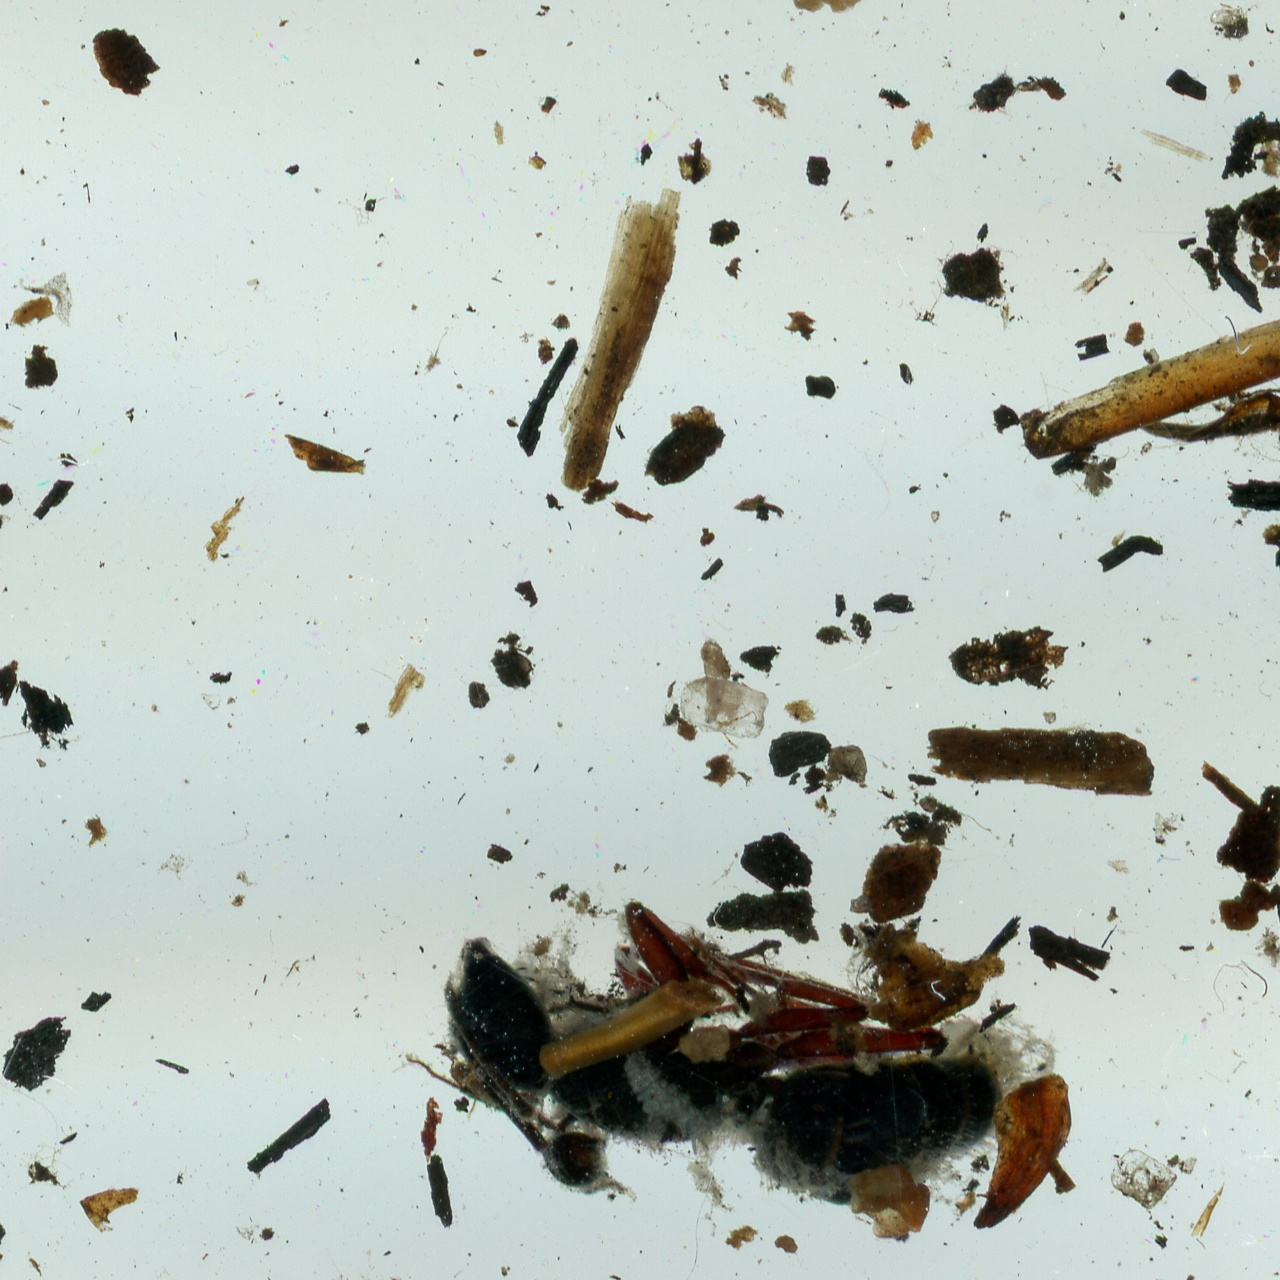arthropod: (391, 843, 1042, 1280)
